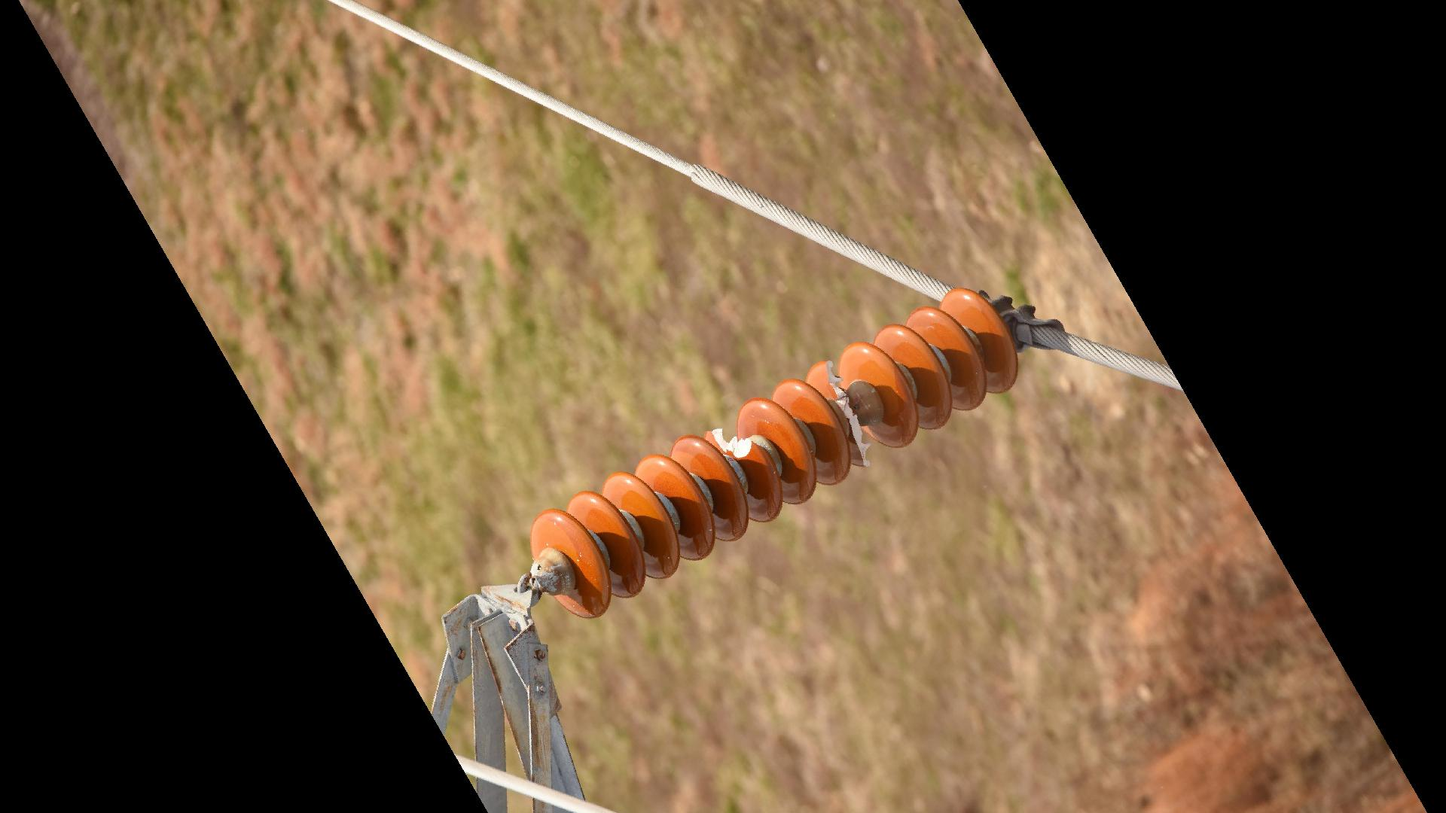insulator: (524, 282, 1024, 623)
insulator_breakage: (818, 353, 878, 473), (702, 422, 760, 466)
